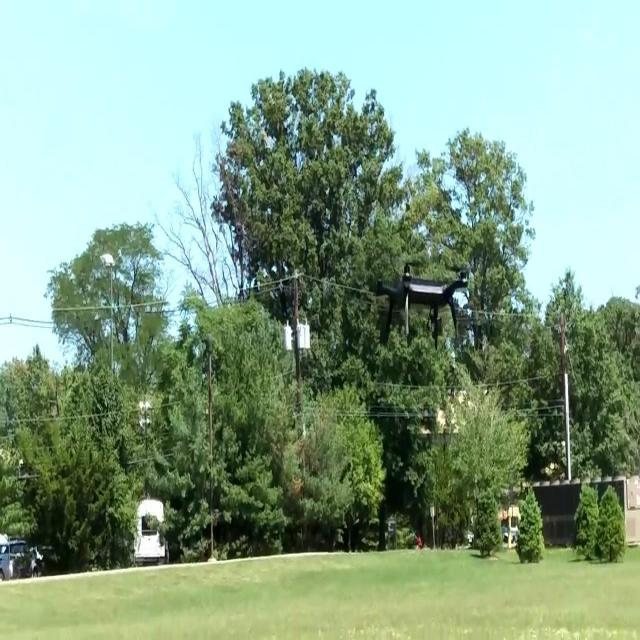UAV: (376, 262, 468, 351)
